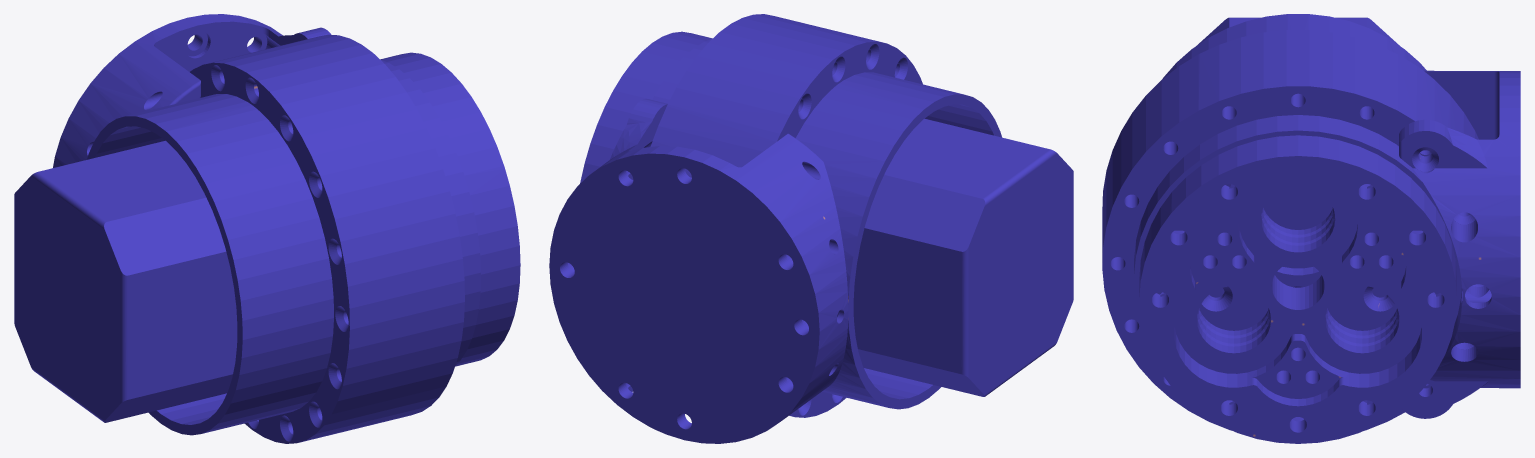
3 views of the same model, side by side, from view 1: azimuth 30°, elevation 25°; view 2: azimuth 150°, elevation 25°; view 3: azimuth 270°, elevation 25° (orthographic).
Parts seen in each view (by area): view 1: link5; view 2: link5; view 3: link5.
Boxes of the visible parts, bbox=[...] form: link5: bbox=[14, 14, 520, 443]; link5: bbox=[549, 14, 1073, 443]; link5: bbox=[1102, 14, 1520, 443].
Size of the model in its own units: 0.0818 by 0.0739 by 0.079.
Materials: 1 (1 with a texture image).
